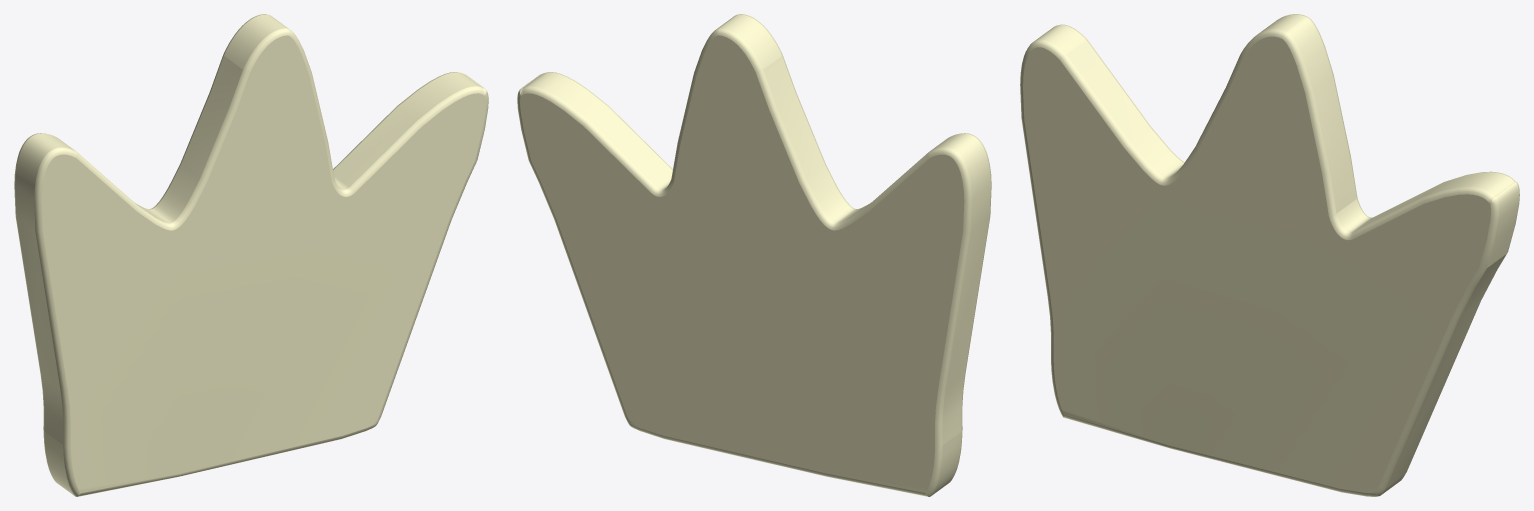
File: crown.glb
3 renders of one model, left to right at view 1: azimuth 30°, elevation 25°; view 2: azimuth 150°, elevation 25°; view 3: azimuth 330°, elevation 25°, orthographic. The views are drawn at different scales.
Visible parts, largest first — view 1: Extrude; view 2: Extrude; view 3: Extrude.
Boxes of the visible parts, bbox=[...] form: Extrude: bbox=[14, 14, 488, 496]; Extrude: bbox=[517, 14, 991, 496]; Extrude: bbox=[1020, 14, 1519, 496].
Size of the model in its own units: 0.35 by 0.3127 by 0.0329.
